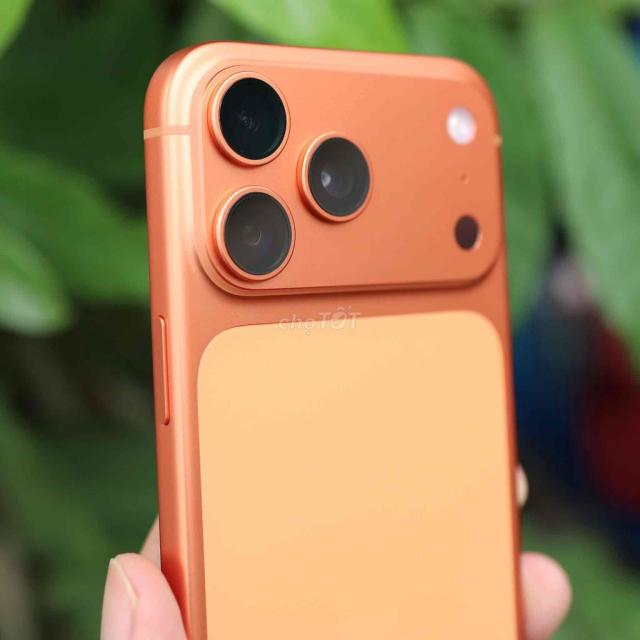gen_17: (137, 30, 538, 636)
